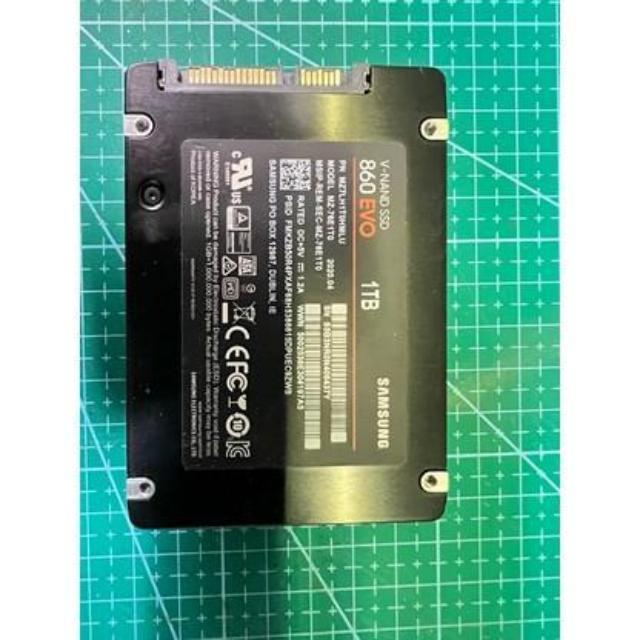DISK: (122, 57, 452, 529)
